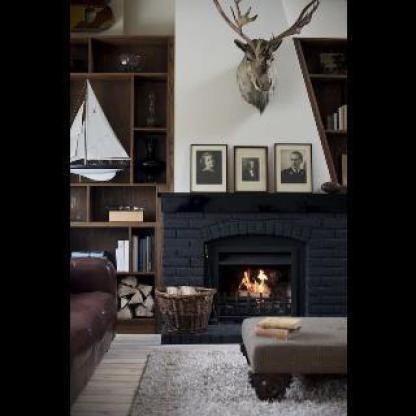Fire: (239, 269, 267, 299)
